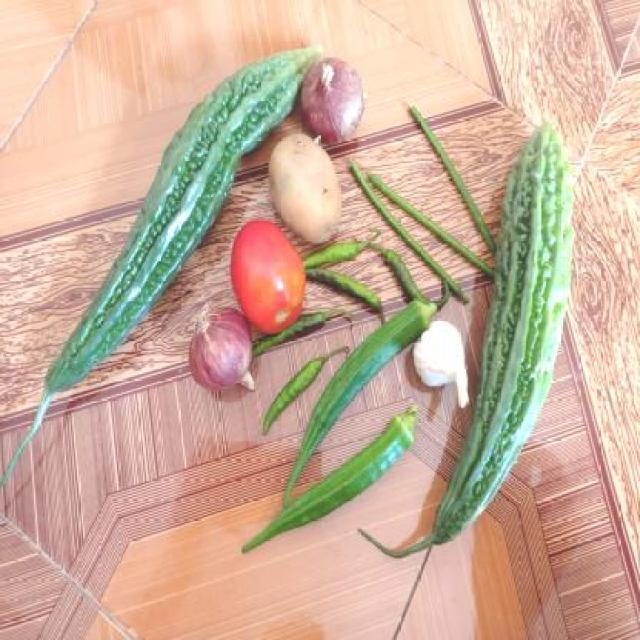Bitter melon: (449, 122, 569, 536)
Garlic: (415, 323, 468, 409)
Green Chili: (321, 240, 417, 320), (262, 357, 324, 428)
Lady finger: (246, 412, 409, 545)
Onion: (186, 309, 251, 405), (302, 57, 366, 140)
Potato: (266, 136, 340, 247)
Tomato: (232, 217, 305, 334)
